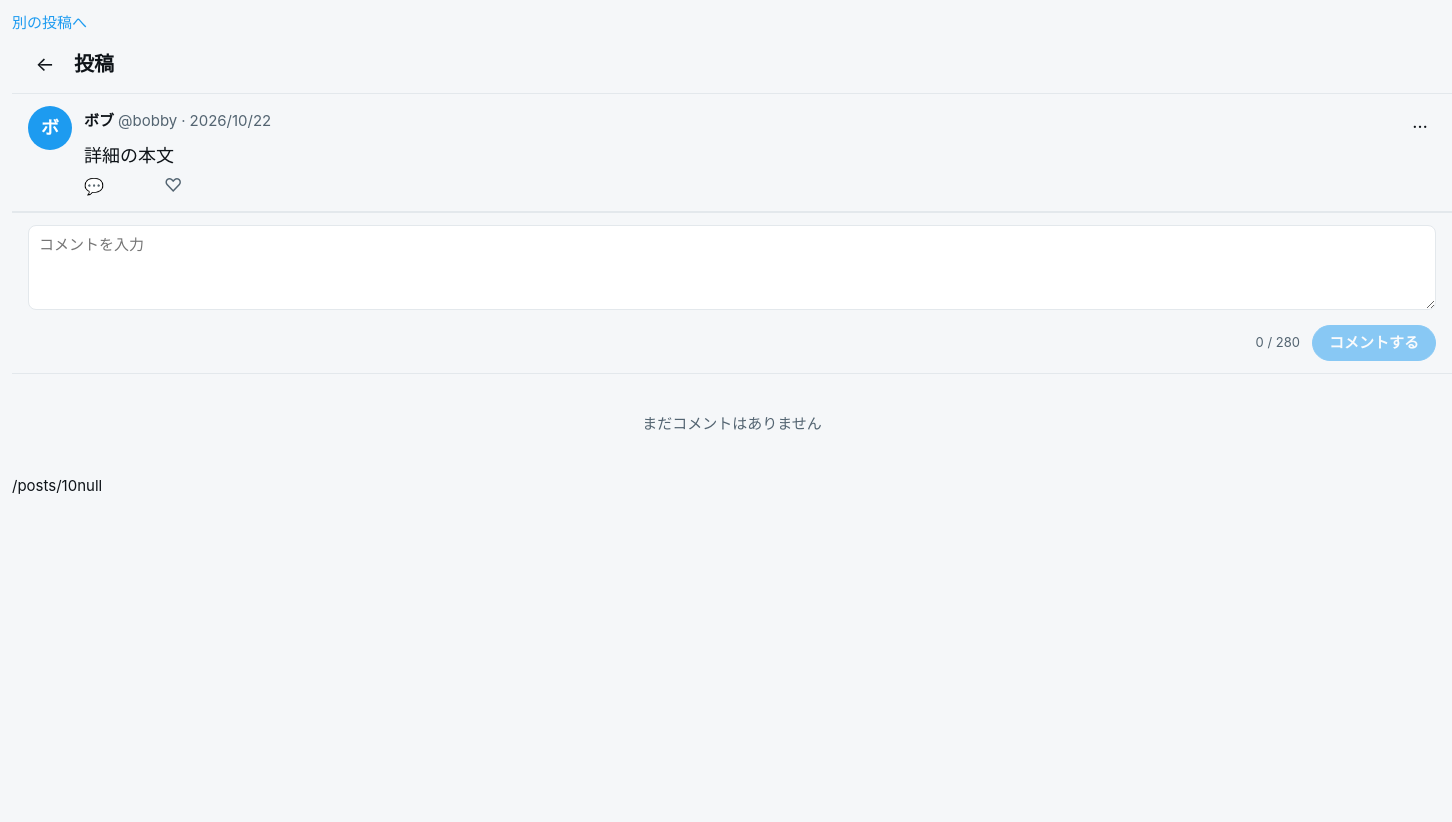
Test: PostDetailPage：いいね・編集・削除 › いいねに失敗したら、エラーを知らせる
The image size is (1452, 822).
Click the button named "いいね".
click(184, 186)  # box [156,172,212,198]
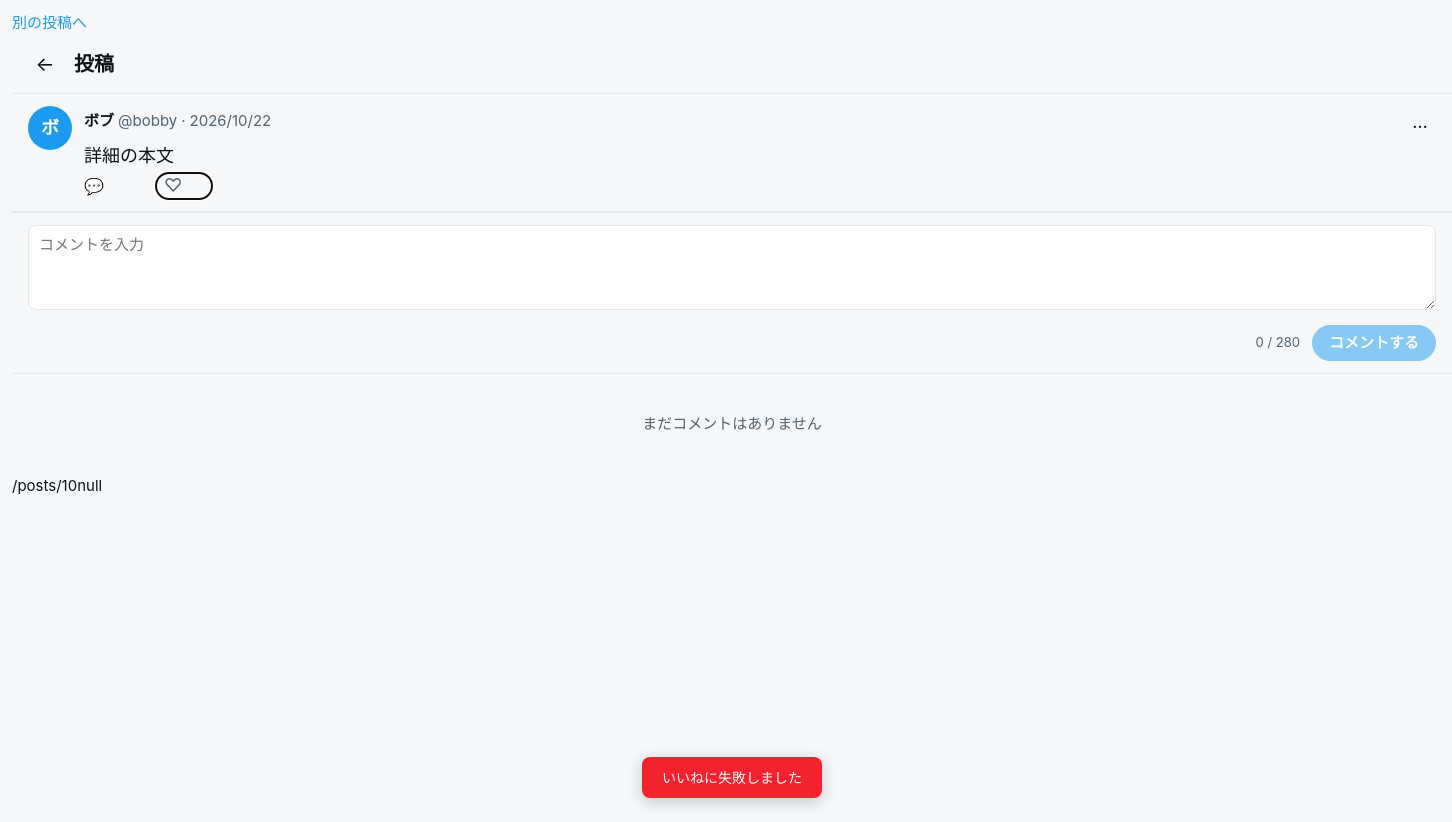
expect the text "いいねに失敗しました" is shown: met, box [642,757,822,798]
